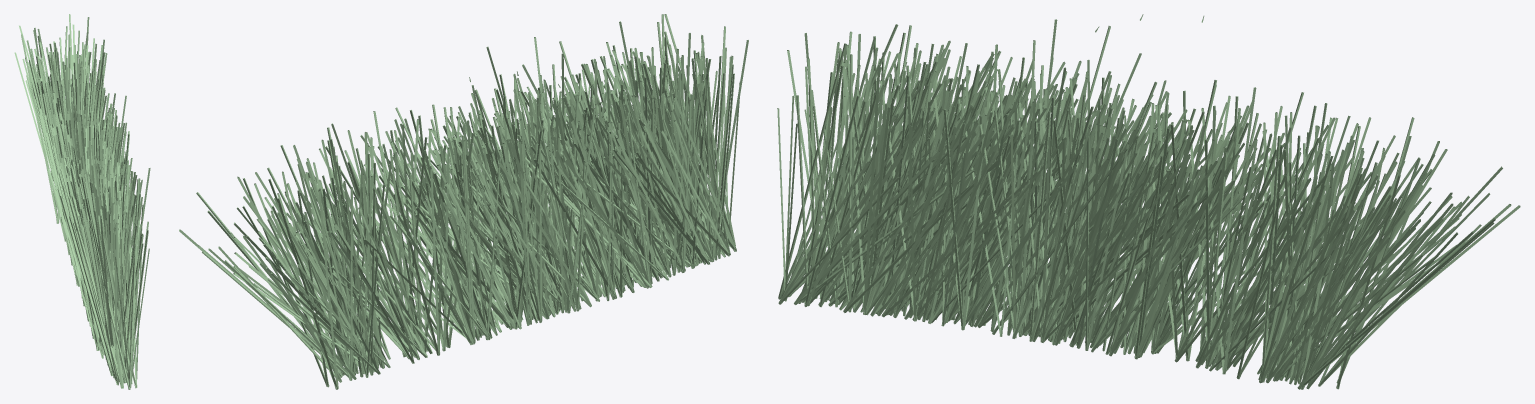
The model's file is RiceSummer.fbx.
3 renders of one model, left to right at view 1: azimuth 30°, elevation 25°; view 2: azimuth 150°, elevation 25°; view 3: azimuth 270°, elevation 25°, orthographic. The views are drawn at different scales.
Visible parts, largest first — view 1: riceSummer1Main; view 2: riceSummer1Main; view 3: riceSummer1Main.
Part boxes in pixels (left/top/right/bottom): riceSummer1Main: left=14, top=14, right=150, bottom=389; riceSummer1Main: left=179, top=14, right=748, bottom=389; riceSummer1Main: left=777, top=14, right=1520, bottom=389.
Bounding box in the file's own units: 3.59 × 3.62 × 7.44.
